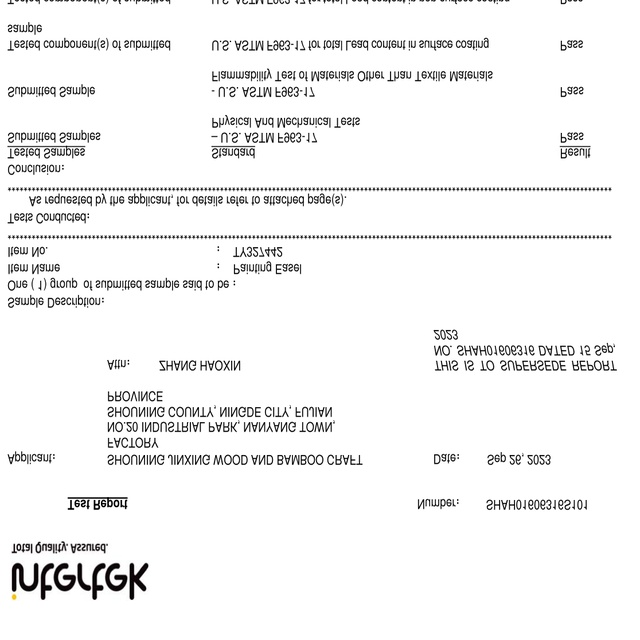intertek: (7, 559, 152, 606)
